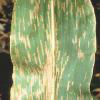Corn Gray leaf spot: (7, 0, 97, 99)
